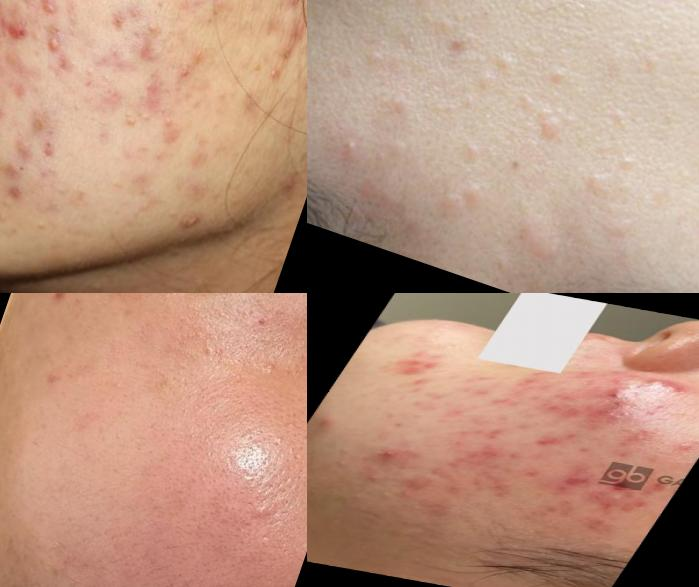acne_scars: (375, 352, 448, 386), (510, 429, 569, 455), (554, 473, 599, 492)
blackhead: (244, 488, 288, 539)
flat_wart: (507, 202, 578, 270), (593, 215, 650, 269), (525, 99, 578, 156), (421, 178, 479, 228), (578, 174, 627, 213)
papular: (463, 467, 544, 506), (440, 435, 514, 475), (606, 423, 672, 459), (168, 198, 213, 244), (1, 80, 28, 140), (388, 466, 436, 493), (114, 105, 151, 140), (139, 10, 173, 43), (586, 385, 636, 407), (308, 411, 347, 436), (42, 30, 71, 59), (357, 467, 393, 486), (38, 1, 64, 21), (191, 1, 231, 12), (49, 294, 74, 307)
purulent: (367, 443, 414, 467)
sebo-crystan-conglo: (576, 483, 643, 520), (635, 374, 697, 400)
whitehead: (331, 126, 367, 171), (460, 139, 498, 171), (614, 151, 645, 187), (318, 451, 366, 474), (544, 63, 579, 92), (489, 50, 523, 74), (461, 181, 491, 208), (102, 294, 140, 315), (365, 486, 406, 505), (470, 72, 501, 93)
